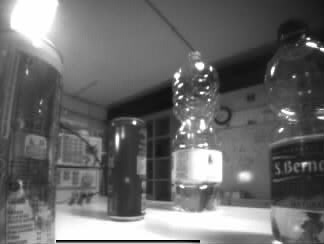Bottle: (265, 21, 324, 244), (173, 51, 223, 213)
Tin can: (1, 30, 60, 244), (108, 116, 146, 220)
